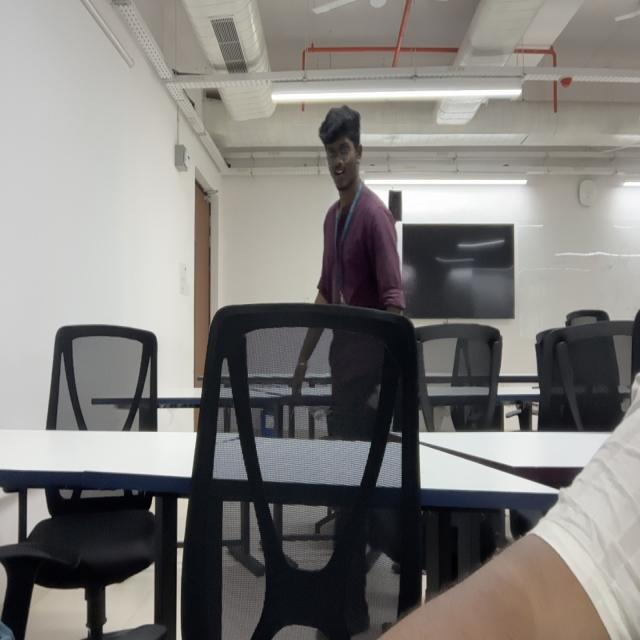ravindra: (318, 104, 364, 192)
